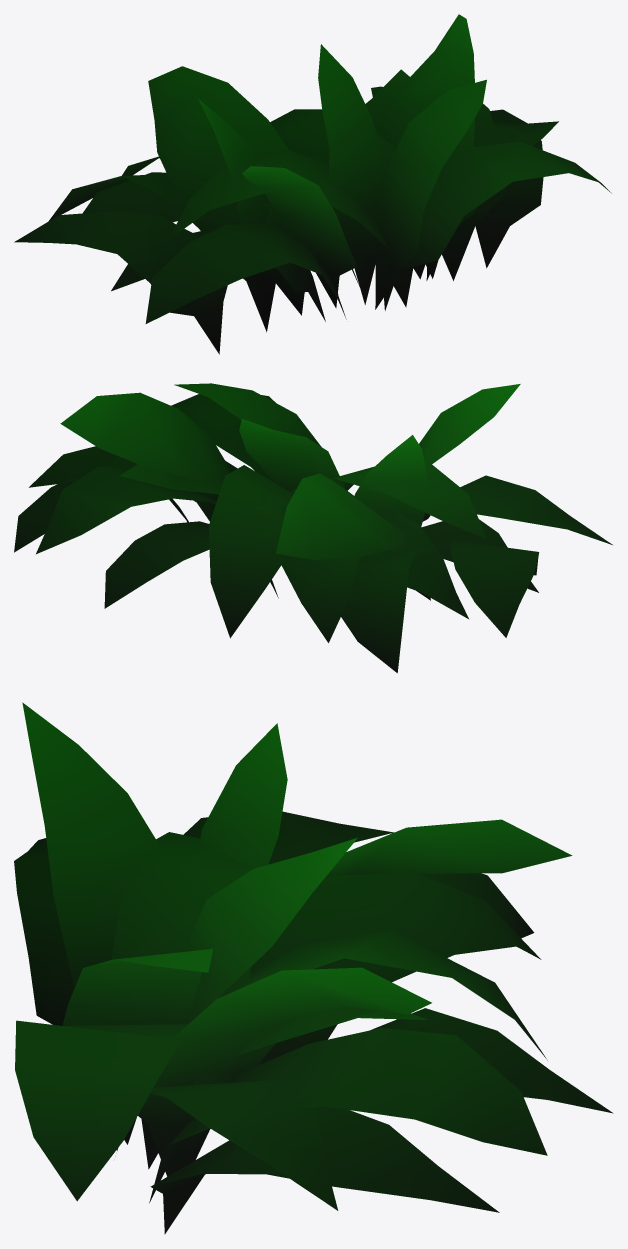
File: TGV_Plant_04A.fbx
3 renders of one model, top to bottom at view 1: azimuth 30°, elevation 25°; view 2: azimuth 150°, elevation 25°; view 3: azimuth 270°, elevation 25°, orthographic. The views are drawn at different scales.
Parts seen in each view (by area): view 1: TGV_Plant_04A_LOD0; view 2: TGV_Plant_04A_LOD0; view 3: TGV_Plant_04A_LOD0.
Boxes of the visible parts, x1,y1,x2,y2 form: TGV_Plant_04A_LOD0: [14, 14, 611, 354]; TGV_Plant_04A_LOD0: [14, 383, 612, 673]; TGV_Plant_04A_LOD0: [14, 702, 613, 1234].
Size of the model in its own units: 280 by 109 by 182.
